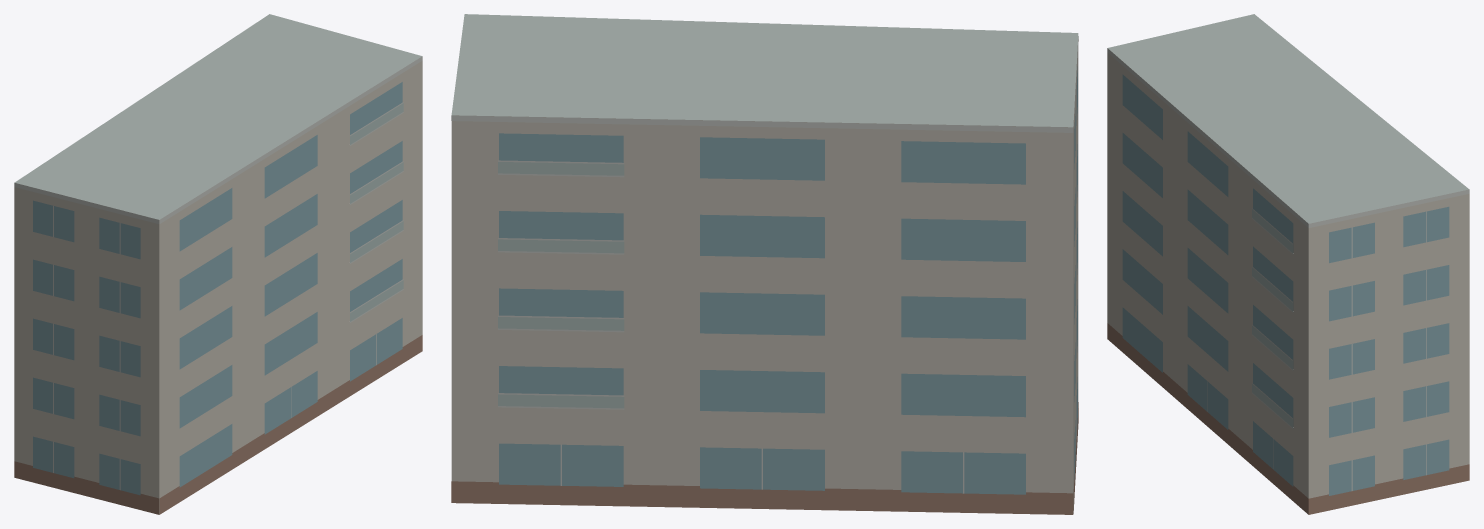
File: survey-upis-32652186.glb
The picture shows the model from 3 angles, left to right: view 1: azimuth 30°, elevation 25°; view 2: azimuth 150°, elevation 25°; view 3: azimuth 270°, elevation 25°; orthographic projection. The views are drawn at different scales.
Visible parts, largest first — view 1: survey-upis-32652186.tmp; view 2: survey-upis-32652186.tmp; view 3: survey-upis-32652186.tmp.
Boxes of the visible parts, bbox=[...] form: survey-upis-32652186.tmp: bbox=[14, 14, 422, 514]; survey-upis-32652186.tmp: bbox=[451, 14, 1078, 514]; survey-upis-32652186.tmp: bbox=[1107, 14, 1469, 514].
Size of the model in its own units: 25.36 by 16.4 by 18.5.
